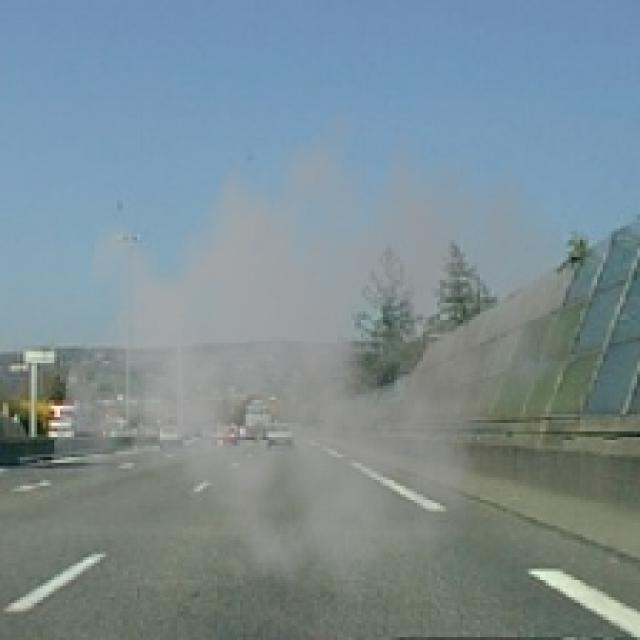Smoke: (48, 83, 574, 612)
